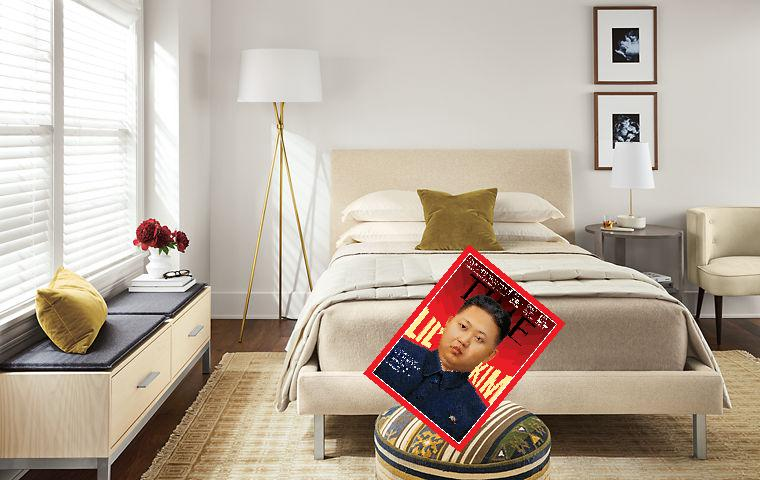times: (360, 241, 565, 457)
